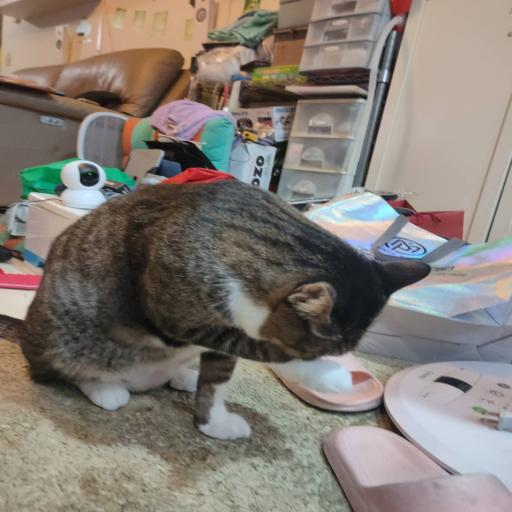cat: (42, 202, 375, 408)
